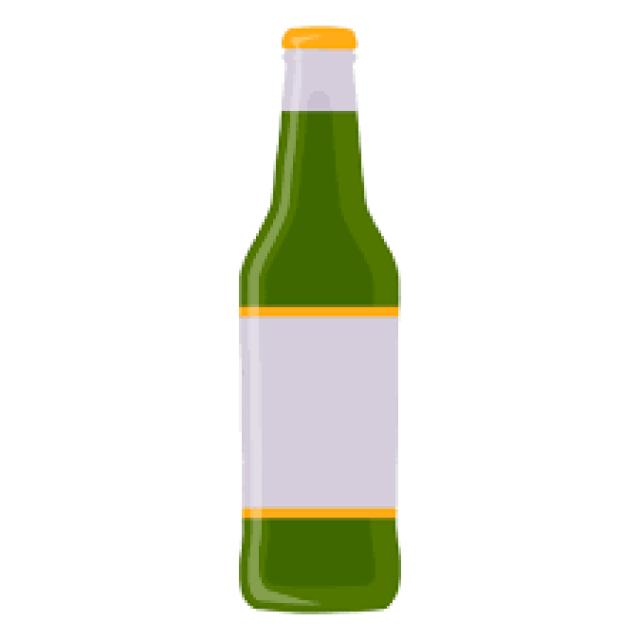glass: (233, 48, 401, 609)
metal: (279, 23, 356, 48)
